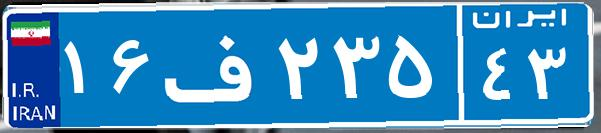1: (57, 26, 110, 107)
2: (273, 28, 330, 110)
3: (330, 28, 385, 110), (525, 38, 570, 115)
4: (475, 38, 525, 113)
5: (385, 28, 445, 110)
6: (110, 28, 158, 105)
ف: (158, 15, 273, 115)
